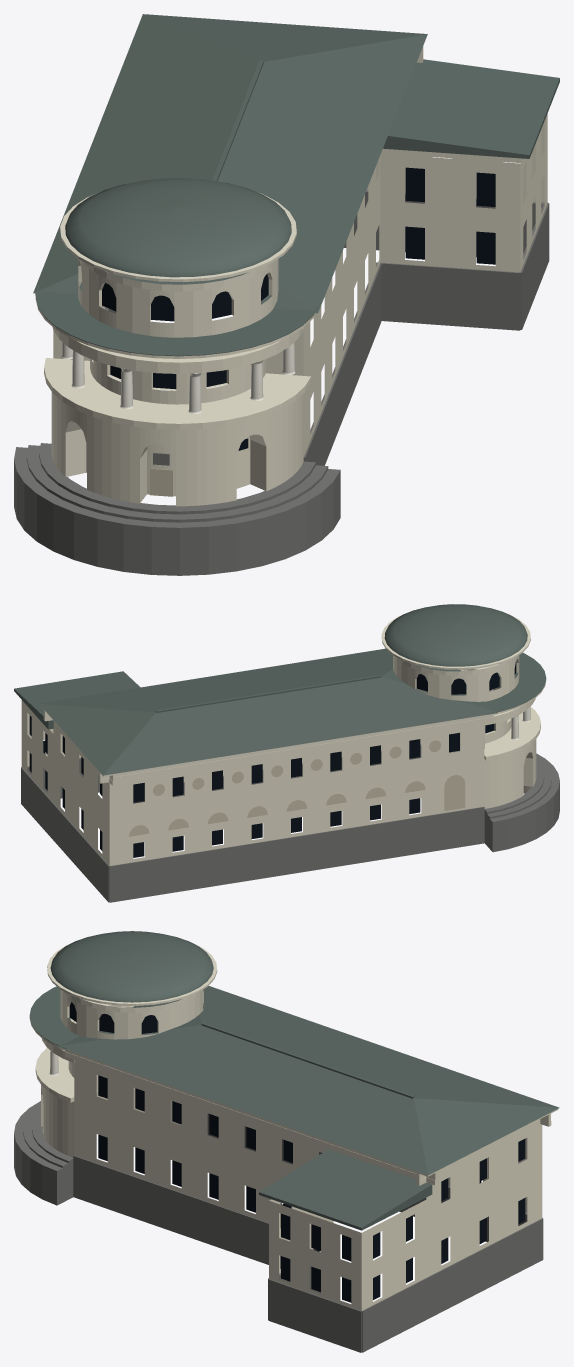
File: biblio_tolstogo.lod.glb
3 renders of one model, top to bottom at view 1: azimuth 30°, elevation 25°; view 2: azimuth 150°, elevation 25°; view 3: azimuth 270°, elevation 25°, orthographic. The views are drawn at different scales.
Parts seen in each view (by area): view 1: biblio_tolstogo_roof, biblio_tolstogo_wall, biblio_tolstogo_stone, biblio_tolstogo_glass, biblio_tolstogo_trim_s; view 2: biblio_tolstogo_wall, biblio_tolstogo_roof, biblio_tolstogo_stone, biblio_tolstogo_glass, biblio_tolstogo_wall2; view 3: biblio_tolstogo_roof, biblio_tolstogo_wall, biblio_tolstogo_stone, biblio_tolstogo_glass.
Part boxes in pixels (x1=…): biblio_tolstogo_roof: x1=33, y1=14, x2=559, y2=356; biblio_tolstogo_wall: x1=35, y1=46, x2=547, y2=506; biblio_tolstogo_stone: x1=14, y1=190, x2=549, y2=575; biblio_tolstogo_glass: x1=99, y1=167, x2=495, y2=450; biblio_tolstogo_trim_s: x1=61, y1=342, x2=295, y2=413; biblio_tolstogo_wall: x1=21, y1=613, x2=546, y2=865; biblio_tolstogo_roof: x1=14, y1=604, x2=546, y2=775; biblio_tolstogo_stone: x1=21, y1=743, x2=559, y2=902; biblio_tolstogo_glass: x1=29, y1=662, x2=516, y2=857; biblio_tolstogo_wall2: x1=128, y1=740, x2=465, y2=836; biblio_tolstogo_roof: x1=29, y1=931, x2=559, y2=1230; biblio_tolstogo_wall: x1=29, y1=942, x2=558, y2=1310; biblio_tolstogo_stone: x1=14, y1=1093, x2=543, y2=1352; biblio_tolstogo_glass: x1=69, y1=1002, x2=525, y2=1302.
Size of the model in its own units: 47.27 by 19.7 by 45.5.
